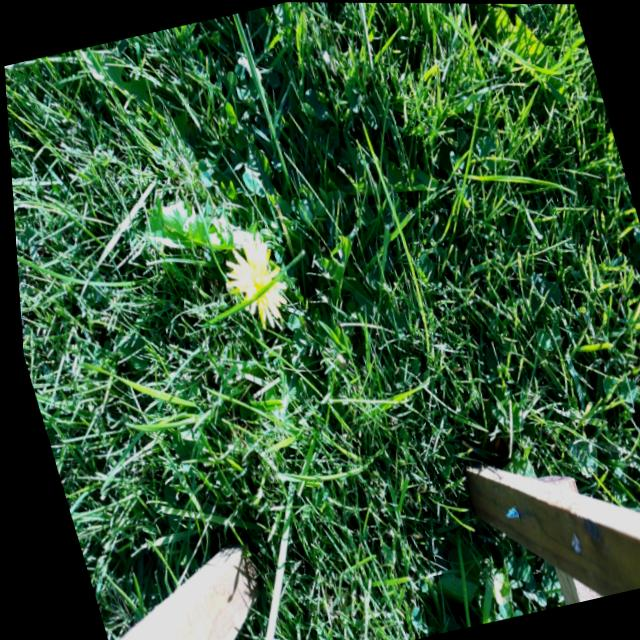flower: (210, 230, 294, 329)
